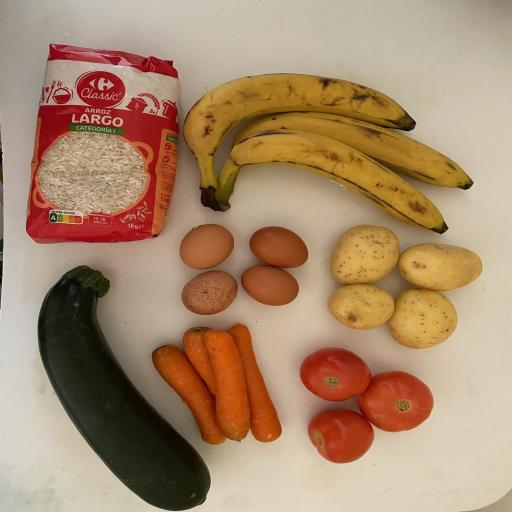banana: (148, 27, 424, 251), (198, 92, 480, 252), (208, 119, 472, 241)
carrot: (192, 309, 294, 460), (177, 316, 275, 452), (141, 327, 237, 456)
courgette: (4, 239, 264, 512)
egg: (238, 208, 322, 284), (162, 206, 249, 279), (162, 262, 254, 322), (236, 255, 307, 322)
potato: (315, 205, 424, 331), (366, 275, 484, 366), (391, 224, 495, 304), (320, 269, 406, 350)
rice: (16, 27, 198, 275)
tomato: (284, 399, 398, 488), (322, 366, 448, 436), (294, 336, 374, 412)
